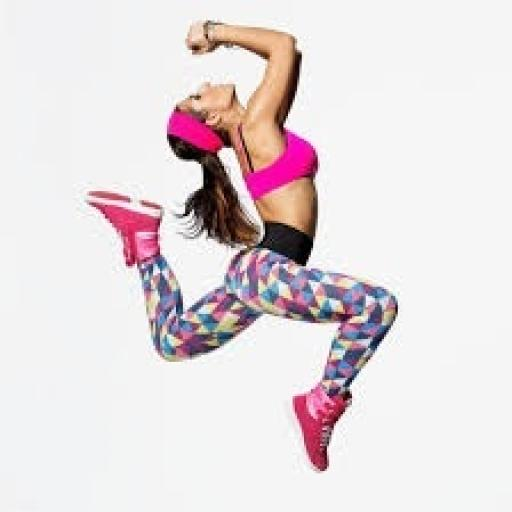dancing: (80, 16, 402, 476)
